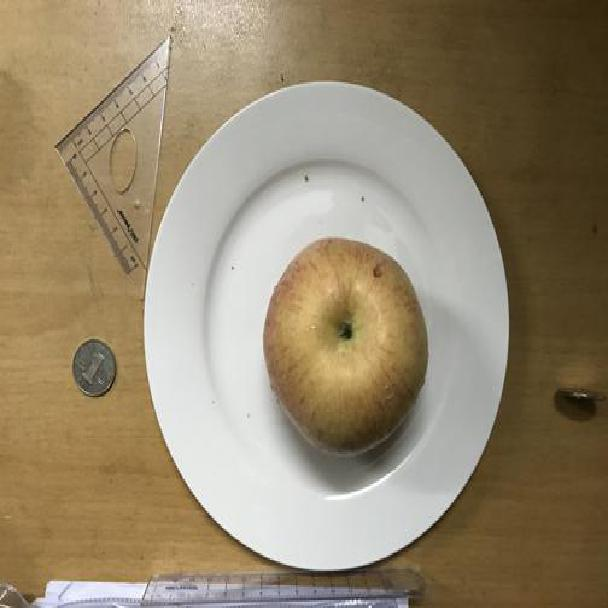apple: (260, 239, 429, 458)
